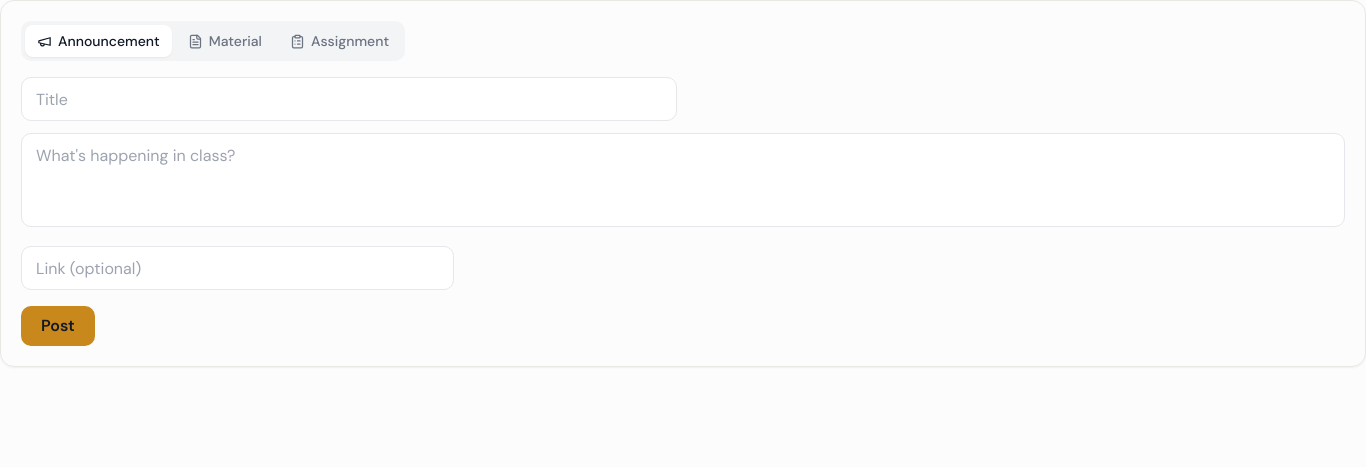
Test: ClassworkComposer › posts with the selected type and clears the form on success
Click the button "Material". click: (225, 41)
box: [176, 25, 274, 57]
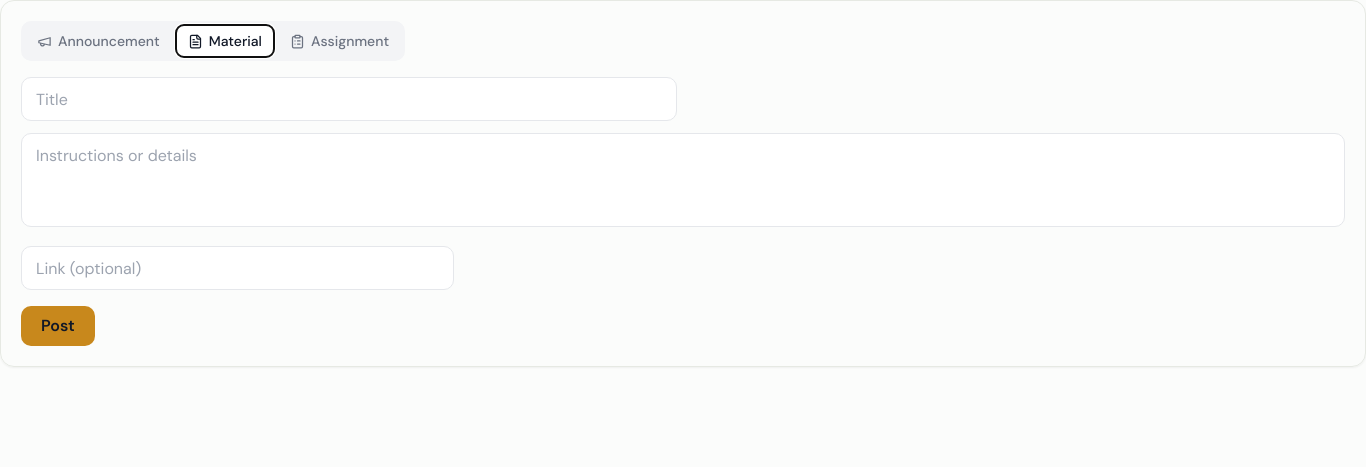
Type "Slides" into the field with placeholder "Title". click: (349, 99)
box: [21, 77, 677, 121]
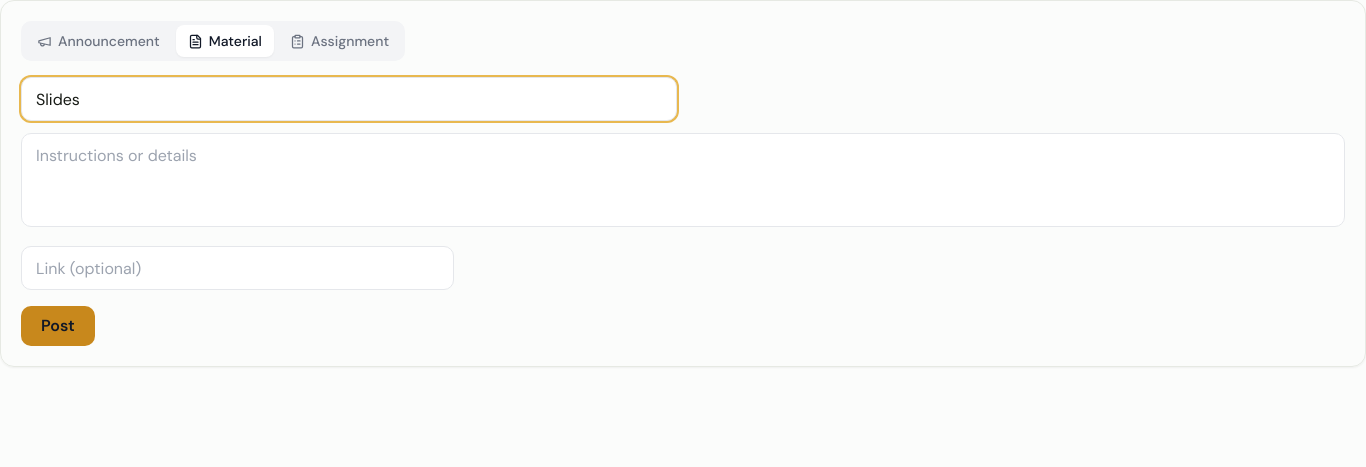
Click the button "Post". click: (58, 326)
box: [21, 306, 95, 346]
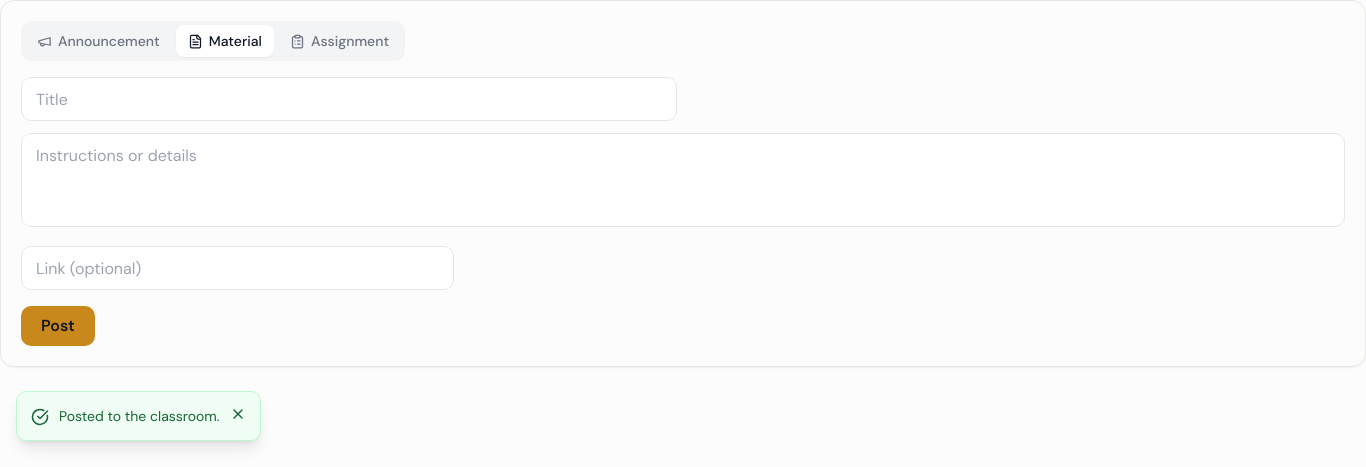
Expected: the text "Posted to the classroom." is shown, [59, 406, 220, 426]
Expected: the field with placeholder "Title" is empty, [21, 77, 677, 121]
